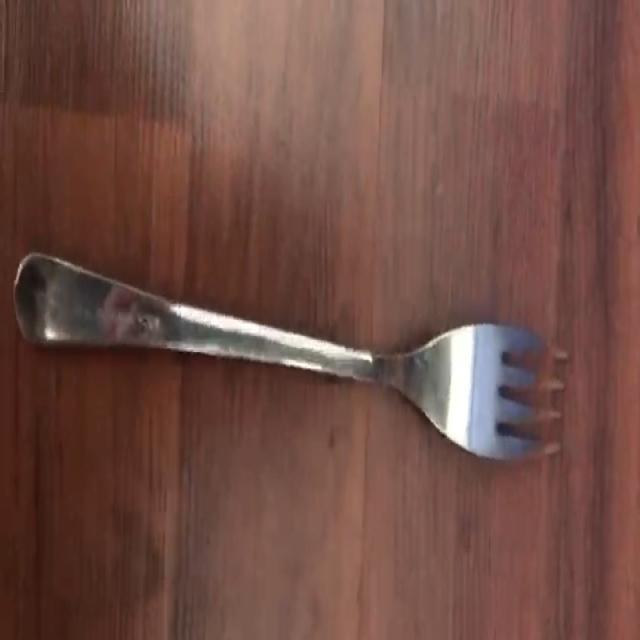spoon: (14, 254, 568, 461)
